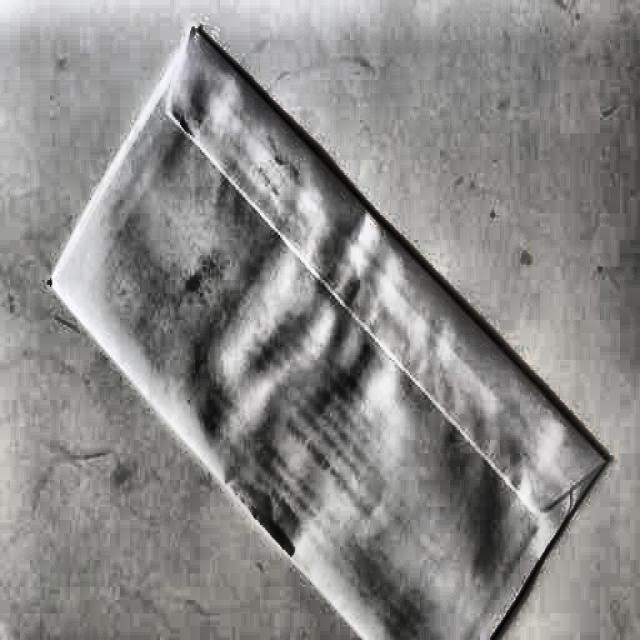paper: (37, 29, 609, 640)
